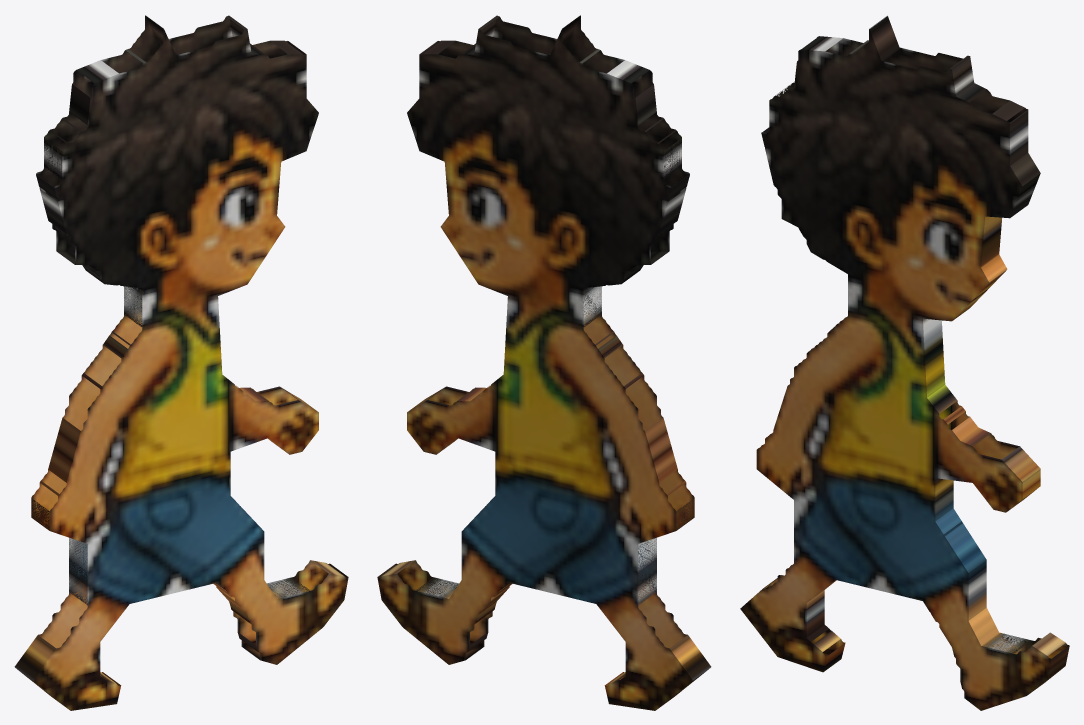
Rendered from walk_04.fbx.
The picture shows the model from 3 angles, left to right: view 1: azimuth 30°, elevation 25°; view 2: azimuth 150°, elevation 25°; view 3: azimuth 330°, elevation 25°; orthographic projection.
Parts seen in each view (by area): view 1: geometry_0; view 2: geometry_0; view 3: geometry_0.
Boxes of the visible parts, box(x1,y1,x2,y2) form: geometry_0: box(14, 15, 348, 710); geometry_0: box(377, 15, 711, 710); geometry_0: box(740, 15, 1069, 710).
Bounding box in the file's own units: 0.75 × 1.51 × 0.076.
1 material, 1 textured.
